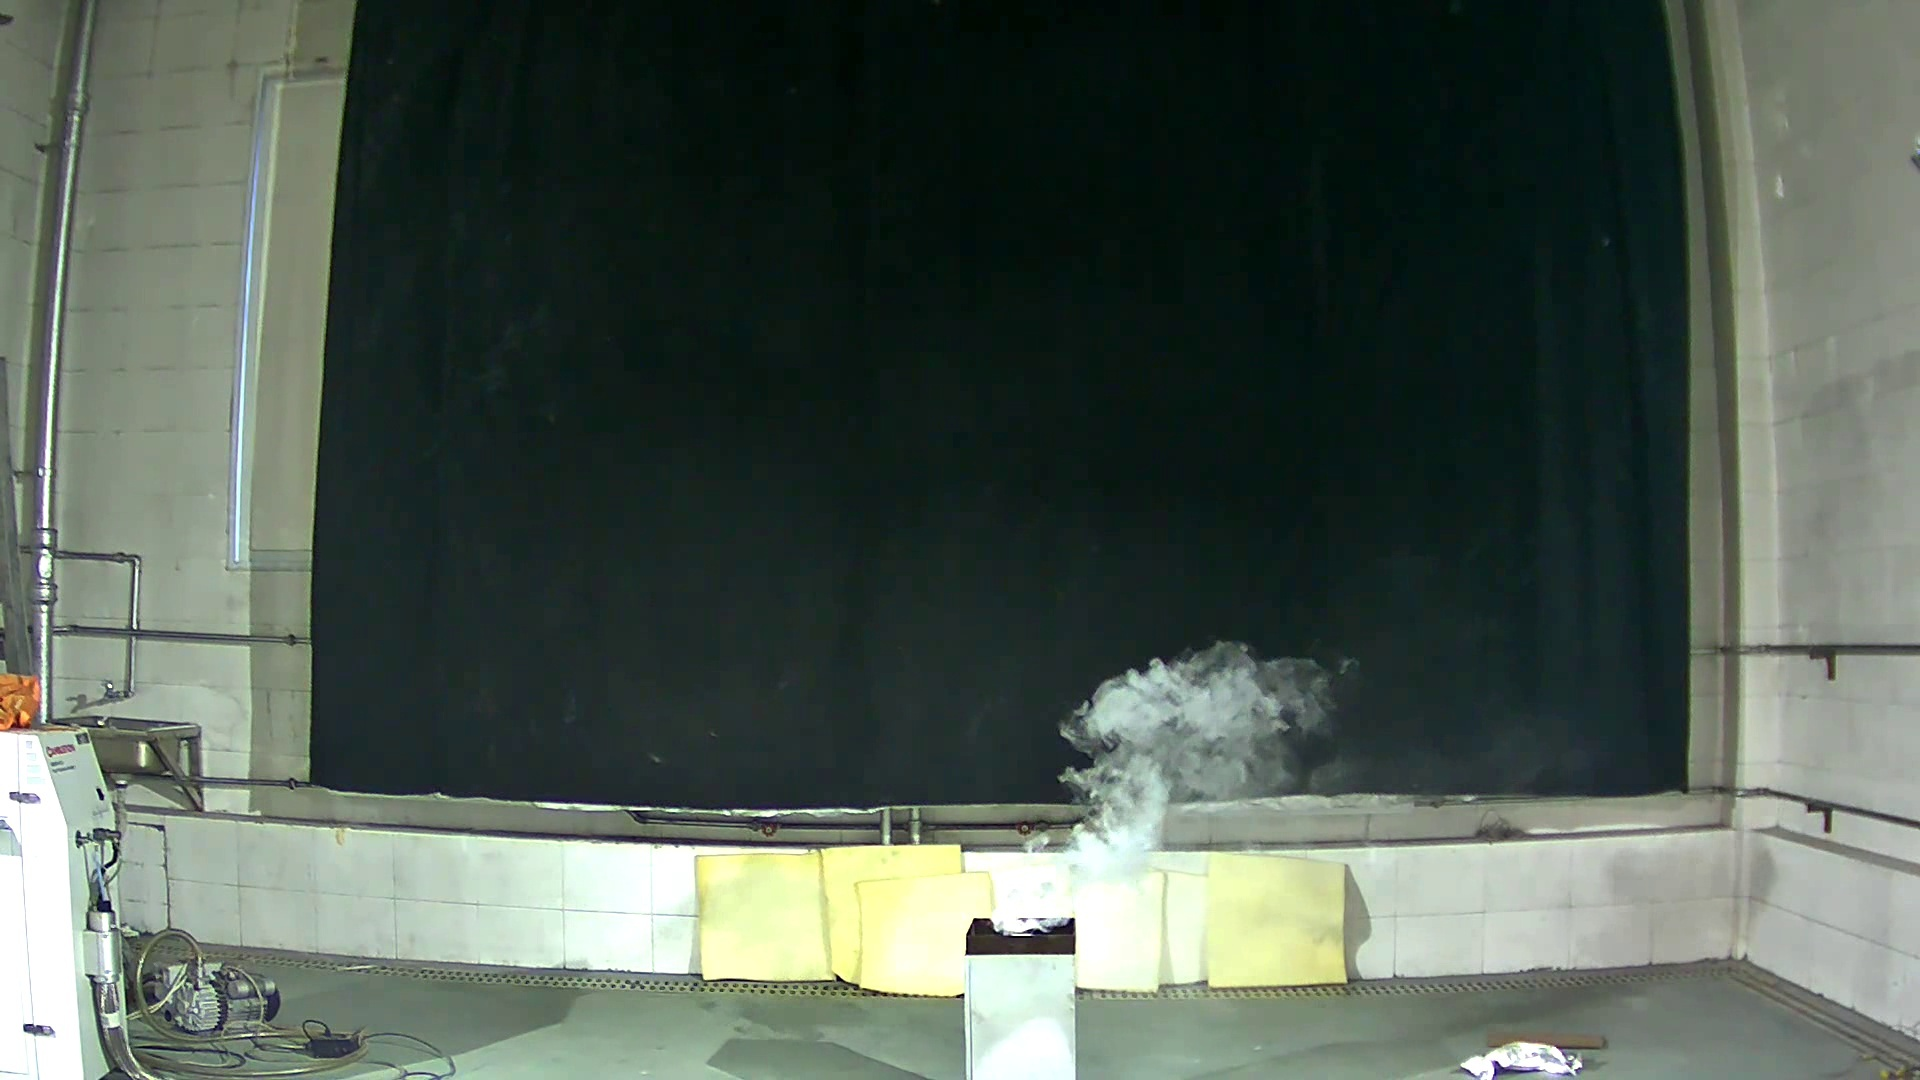smoke: (961, 611, 1361, 932)
